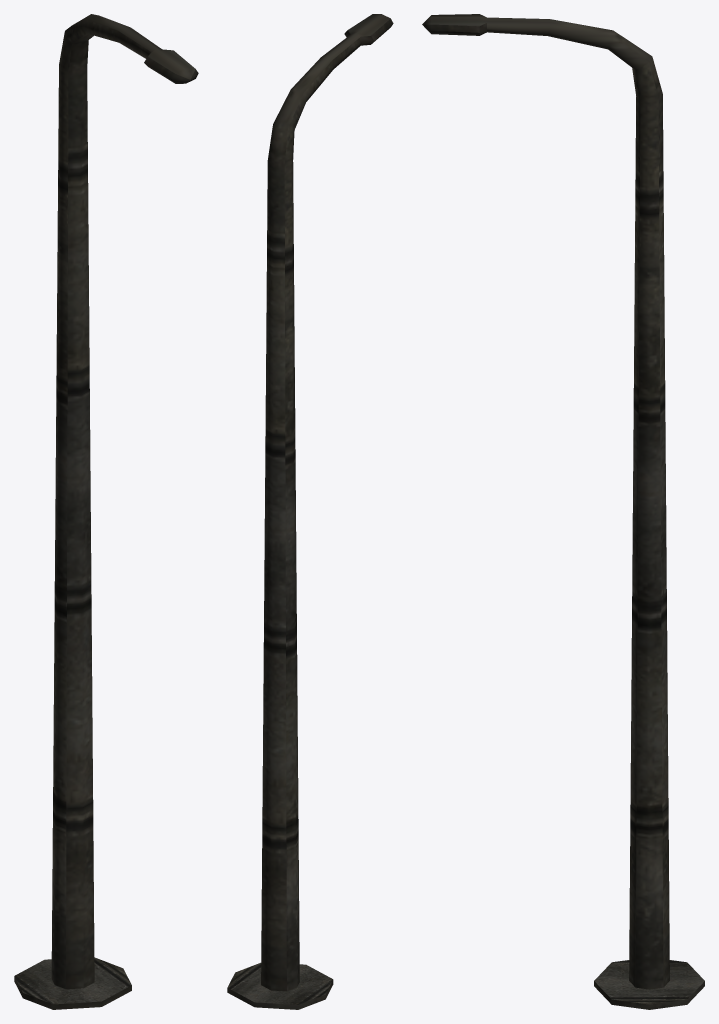
The model's file is LightPole.fbx.
The picture shows the model from 3 angles, left to right: view 1: azimuth 30°, elevation 25°; view 2: azimuth 150°, elevation 25°; view 3: azimuth 270°, elevation 25°; orthographic projection. The views are drawn at different scales.
Visible parts, largest first — view 1: Cube; view 2: Cube; view 3: Cube.
Boxes of the visible parts, left/top/right/bottom form: Cube: left=14, top=14, right=198, bottom=1009; Cube: left=227, top=14, right=393, bottom=1009; Cube: left=422, top=14, right=704, bottom=1009.
Bounding box in the file's own units: 1.11 × 10.52 × 2.79.
